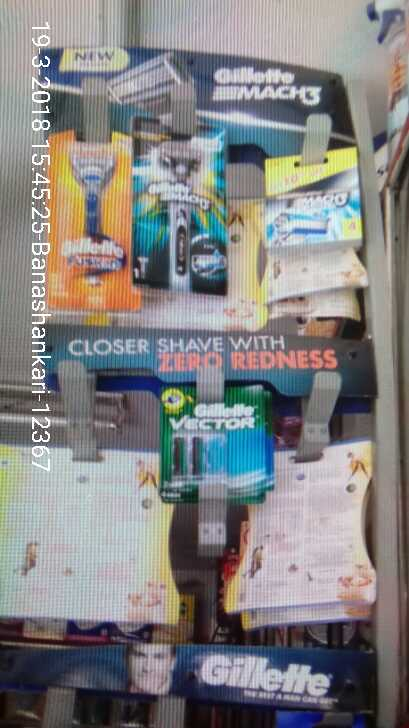gillette: (136, 131, 229, 297), (47, 128, 132, 307), (157, 388, 264, 489), (264, 154, 377, 246)
